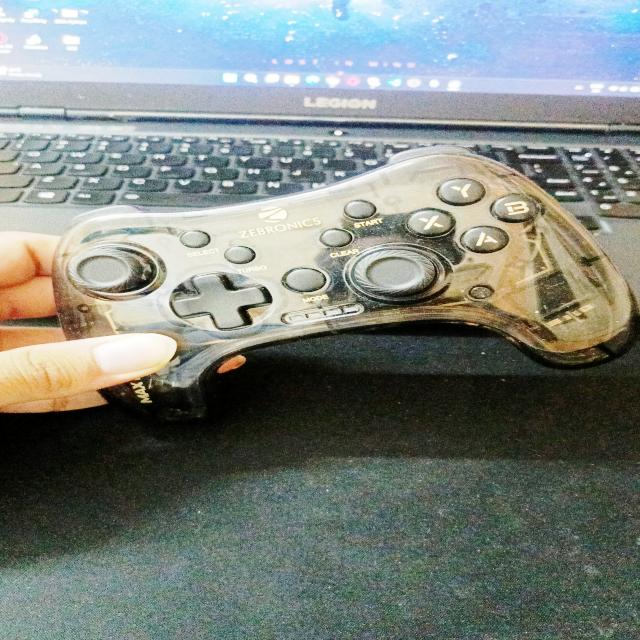gamepad: (49, 146, 639, 424)
